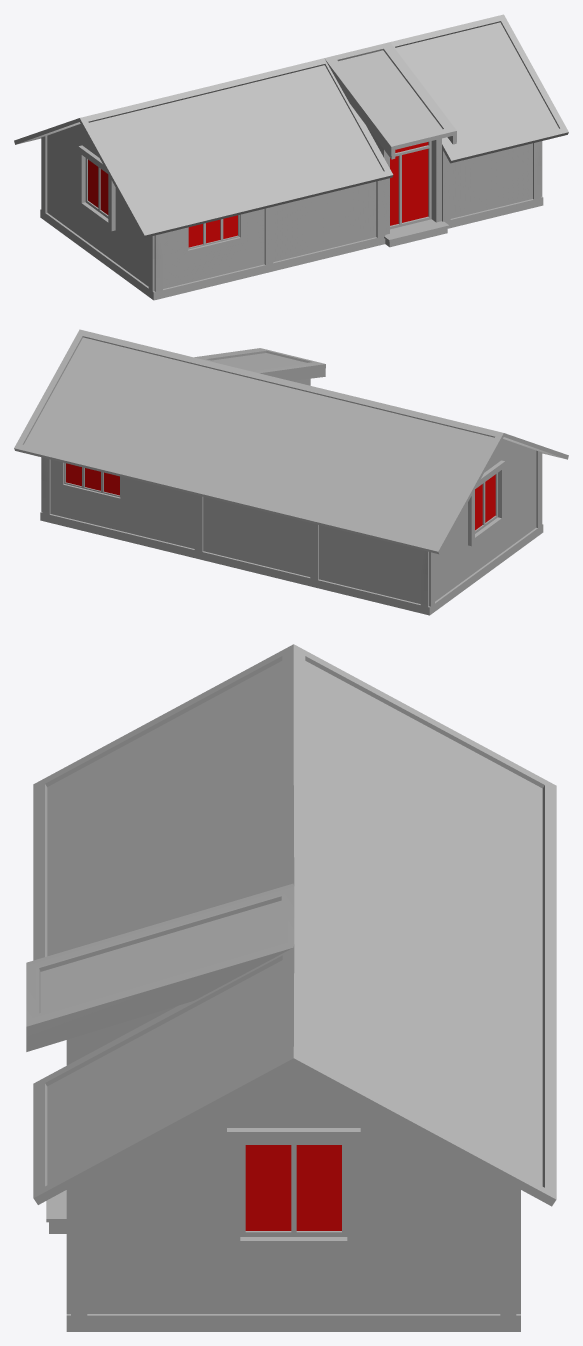
Rendered from House_2_Low.fbx.
The picture shows the model from 3 angles, top to bottom: view 1: azimuth 30°, elevation 25°; view 2: azimuth 150°, elevation 25°; view 3: azimuth 270°, elevation 25°; orthographic projection. The views are drawn at different scales.
Parts seen in each view (by area): view 1: House_2_Low; view 2: House_2_Low; view 3: House_2_Low.
Part boxes in pixels (left/top/right/bottom): House_2_Low: left=14, top=14, right=568, bottom=300; House_2_Low: left=14, top=329, right=568, bottom=615; House_2_Low: left=26, top=644, right=556, bottom=1331.
Bounding box in the file's own units: 2750 × 900 × 1488.
